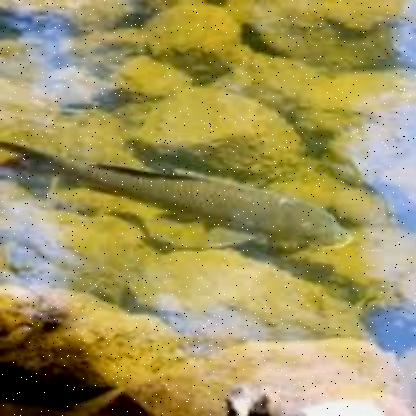ikan-mas: (20, 158, 350, 252)
